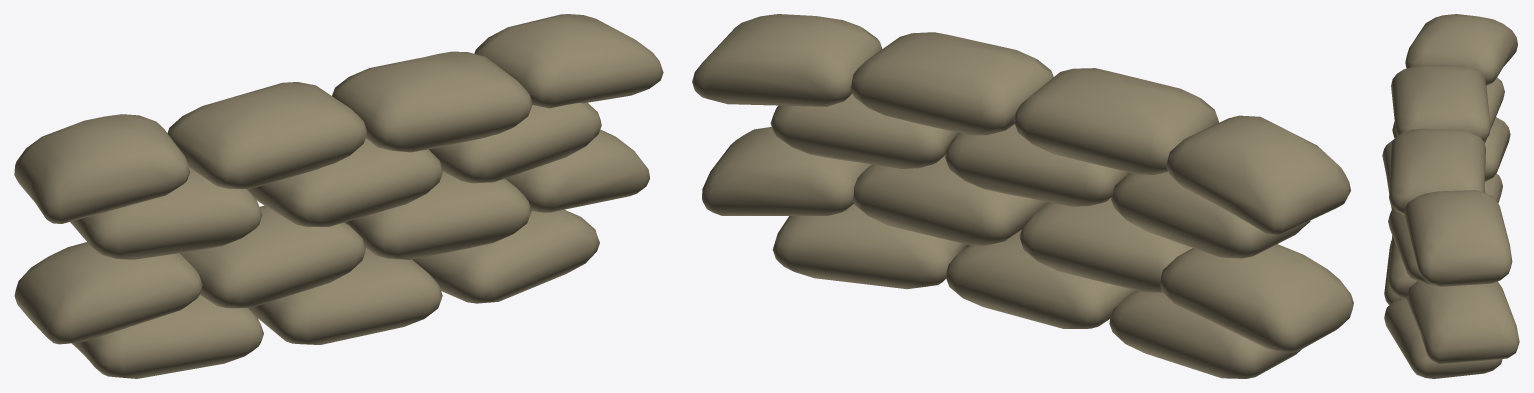
File: prop-sandbags.glb
3 renders of one model, left to right at view 1: azimuth 30°, elevation 25°; view 2: azimuth 150°, elevation 25°; view 3: azimuth 270°, elevation 25°, orthographic. The views are drawn at different scales.
Parts seen in each view (by area): view 1: sandbags; view 2: sandbags; view 3: sandbags.
Part boxes in pixels (box(x1,y1,x2,y2)): sandbags: box(14, 14, 663, 378); sandbags: box(692, 14, 1353, 378); sandbags: box(1382, 14, 1519, 378).
Size of the model in its own units: 3.16 by 1.19 by 0.7751.
